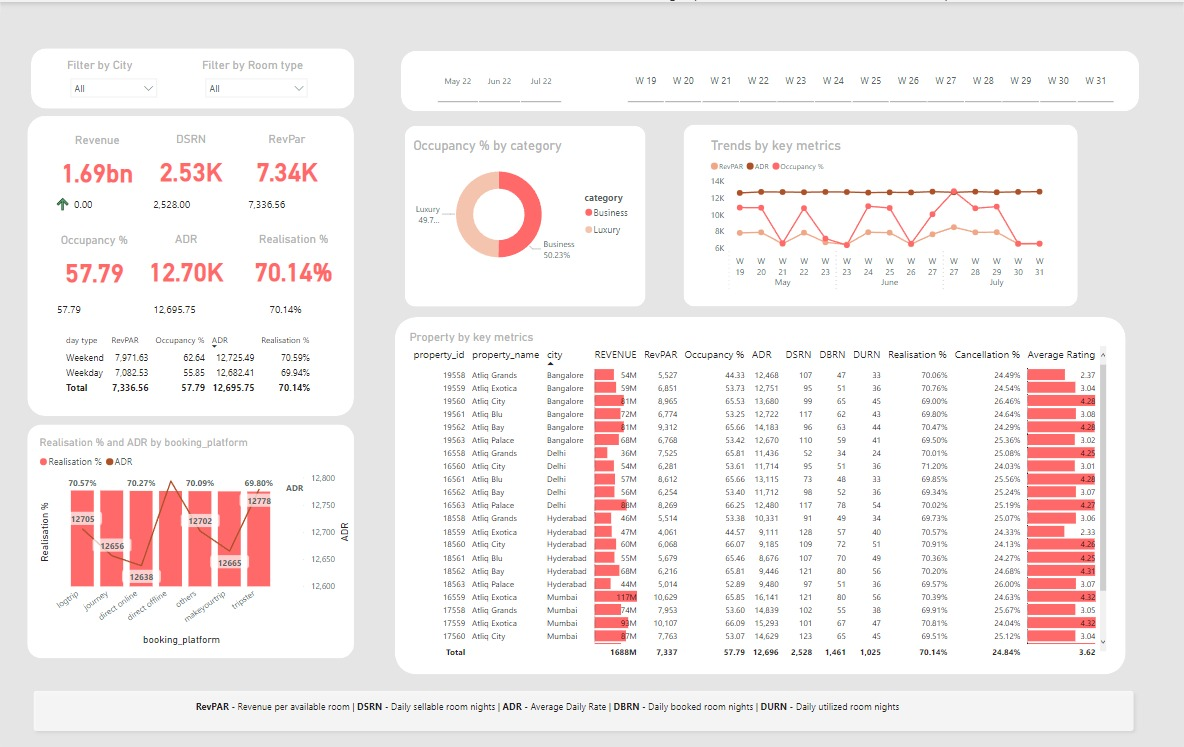

This screenshot's page, from the dashboard's own definition file:
{"tool":"powerbi","page":{"name":"Page 1","canvas":[1720,1100],"ordinal":0},"visuals":[{"type":"shape","box":[573.3,457.7,1063.3,520],"z":0},{"type":"shape","box":[38.3,615,475,340],"z":1000},{"type":"shape","box":[993.3,178,573.3,265],"z":2000},{"type":"shape","box":[586.7,180.3,350,263.3],"z":3000},{"type":"tableEx","title":"Property by key metrics","fields":{"Values":["dim_hotels.property_id","dim_hotels.property_name","dim_hotels.city","key_measures.REVENUE","key_measures.RevPAR","key_measures.Occupancy %","key_measures.ADR","key_measures.DSRN","key_measures.DBRN","key_measures.DURN","key_measures.Realisation %","key_measures.Cancellation %"]},"box":[590,476,1023.3,481.7],"z":4000},{"type":"donutChart","fields":{"Y":["key_measures.Occupancy %"],"Category":["dim_hotels.category"]},"box":[595,198.3,333.3,200],"z":5000},{"type":"lineChart","title":"Trends by key metrics","fields":{"Category":["dim_date.mmm yy.Variation.Date Hierarchy.Month","dim_date.week no"],"Y":["key_measures.RevPAR","key_measures.ADR"],"Y2":["key_measures.Occupancy %"]},"box":[1027.7,198.3,501.7,231.7],"z":6000},{"type":"lineStackedColumnComboChart","fields":{"Category":["fact_bookings.booking_platform"],"Y":["key_measures.Realisation %"],"Y2":["key_measures.ADR"]},"box":[51,630.3,461.7,310],"z":7000},{"type":"shape","box":[43.3,66.7,470,88.3],"z":8000},{"type":"slicer","title":"Filter by City","fields":{"Values":["dim_hotels.city"]},"box":[90.2,81.6,146.2,58.8],"z":9000},{"type":"slicer","title":"Filter by Room type","fields":{"Values":["dim_rooms.room_class"]},"box":[287.7,81.6,168.8,58.8],"z":10000},{"type":"shape","box":[582.7,71,1073.3,88.3],"z":11000},{"type":"slicer","title":"Filter by Month","fields":{"Values":["dim_date.mmm yy"]},"box":[608.9,77.9,230,74.3],"z":12000},{"type":"slicer","title":"Filter by Week no.","fields":{"Values":["dim_date.week no"]},"box":[886,77.9,757.1,74.3],"z":13000},{"type":"shape","box":[38.3,165,475,436.7],"z":14000},{"type":"tableEx","fields":{"Values":["dim_date.day type","key_measures.RevPAR","key_measures.Occupancy %","key_measures.ADR","key_measures.Realisation %"]},"box":[83.3,476.7,383.3,105],"z":15000},{"type":"tableEx","fields":{"Values":["key_measures.."]},"box":[68.8,248.7,138.8,67.5],"z":16000},{"type":"card","title":"Revenue","fields":{"Values":["key_measures.REVENUE"]},"box":[61.1,190.4,156.2,92.5],"z":17000},{"type":"tableEx","fields":{"Values":["key_measures.DSRN"]},"box":[208.8,248.7,138.8,67.5],"z":18000},{"type":"tableEx","fields":{"Values":["key_measures.RevPAR"]},"box":[347.6,248.7,138.8,67.5],"z":19000},{"type":"card","title":"DSRN","fields":{"Values":["key_measures.DSRN"]},"box":[197.6,189.9,156.2,92.5],"z":20000},{"type":"card","title":"RevPar","fields":{"Values":["key_measures.RevPAR"]},"box":[338.7,189.7,155,93.3],"z":21000},{"type":"tableEx","fields":{"Values":["key_measures.Occupancy %"]},"box":[68.8,401.2,138.8,67.5],"z":22000},{"type":"card","title":"Occupancy %","fields":{"Values":["key_measures.Occupancy %"]},"box":[61.1,336.7,147.5,92.5],"z":23000},{"type":"tableEx","fields":{"Values":["key_measures.ADR"]},"box":[208.8,401.2,138.8,67.5],"z":24000},{"type":"tableEx","fields":{"Values":["key_measures.Realisation %"]},"box":[347.6,401.2,138.8,67.5],"z":25000},{"type":"card","title":"ADR","fields":{"Values":["key_measures.ADR"]},"box":[191.3,333.7,156.2,92.5],"z":26000},{"type":"card","title":"Realisation %","fields":{"Values":["key_measures.Realisation %"]},"box":[347.6,333.7,156.2,92.5],"z":27000},{"type":"shape","box":[38.3,993.3,1618.3,76.7],"z":28000},{"type":"textbox","box":[278.3,1011.7,1041.7,35],"z":29000}]}

Visuals, with their boxes in screenshot pixels (x1, y1, x2, y2), scaled from the page's 1720x1100 canvas onto the 1184x747 screenshot:
shape: [x1=395, y1=311, x2=1127, y2=664]
shape: [x1=26, y1=418, x2=353, y2=649]
shape: [x1=684, y1=121, x2=1078, y2=301]
shape: [x1=404, y1=122, x2=645, y2=301]
"Property by key metrics" tableEx: [x1=406, y1=323, x2=1111, y2=650]
donutChart - key_measures.Occupancy % x dim_hotels.category: [x1=410, y1=135, x2=639, y2=270]
"Trends by key metrics" lineChart: [x1=707, y1=135, x2=1053, y2=292]
lineStackedColumnComboChart - fact_bookings.booking_platform x key_measures.Realisation %: [x1=35, y1=428, x2=353, y2=639]
shape: [x1=30, y1=45, x2=353, y2=105]
"Filter by City" slicer: [x1=62, y1=55, x2=163, y2=95]
"Filter by Room type" slicer: [x1=198, y1=55, x2=314, y2=95]
shape: [x1=401, y1=48, x2=1140, y2=108]
"Filter by Month" slicer: [x1=419, y1=53, x2=577, y2=103]
"Filter by Week no." slicer: [x1=610, y1=53, x2=1131, y2=103]
shape: [x1=26, y1=112, x2=353, y2=409]
tableEx - dim_date.day type x key_measures.RevPAR: [x1=57, y1=324, x2=321, y2=395]
tableEx - key_measures..: [x1=47, y1=169, x2=143, y2=215]
"Revenue" card: [x1=42, y1=129, x2=150, y2=192]
tableEx - key_measures.DSRN: [x1=144, y1=169, x2=239, y2=215]
tableEx - key_measures.RevPAR: [x1=239, y1=169, x2=335, y2=215]
"DSRN" card: [x1=136, y1=129, x2=244, y2=192]
"RevPar" card: [x1=233, y1=129, x2=340, y2=192]
tableEx - key_measures.Occupancy %: [x1=47, y1=272, x2=143, y2=318]
"Occupancy %" card: [x1=42, y1=229, x2=144, y2=291]
tableEx - key_measures.ADR: [x1=144, y1=272, x2=239, y2=318]
tableEx - key_measures.Realisation %: [x1=239, y1=272, x2=335, y2=318]
"ADR" card: [x1=132, y1=227, x2=239, y2=289]
"Realisation %" card: [x1=239, y1=227, x2=347, y2=289]
shape: [x1=26, y1=675, x2=1140, y2=727]
textbox: [x1=192, y1=687, x2=909, y2=711]
